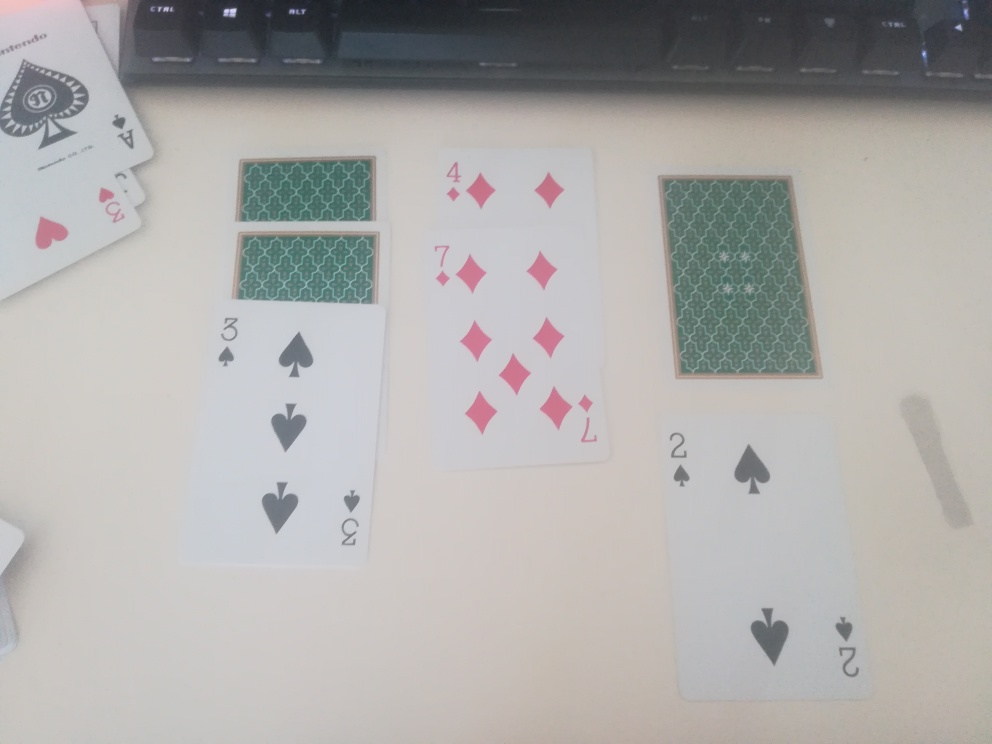2S: (664, 427, 700, 498)
3S: (213, 308, 245, 379)
4D: (442, 156, 463, 207)
7D: (431, 233, 457, 292)
BACK: (656, 170, 826, 384), (233, 227, 382, 298), (234, 154, 378, 223)
